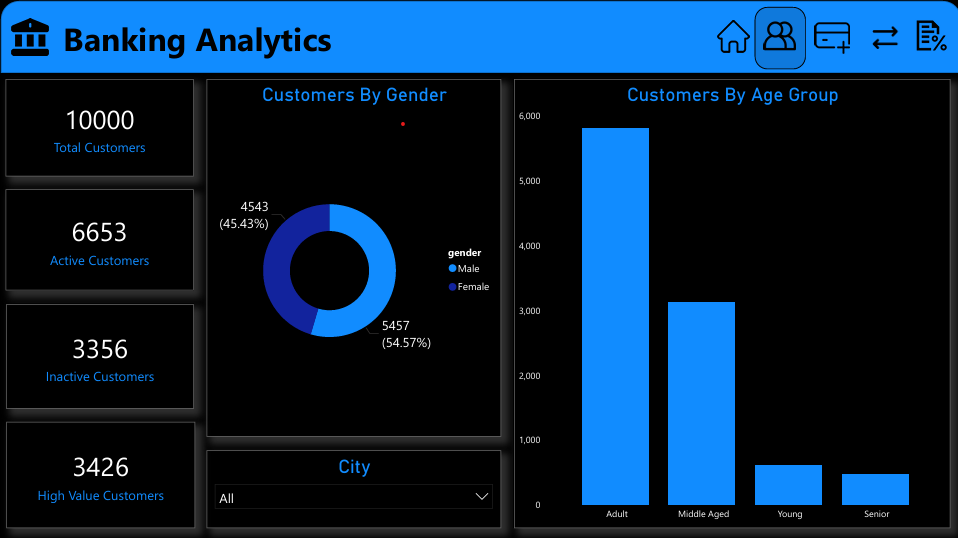

The page's visual inventory and layout, read from the dashboard file:
{"tool":"powerbi","page":{"name":"Customers","canvas":[1280,720],"ordinal":1},"visuals":[{"type":"shape","box":[0,0,1280,96],"z":0},{"type":"image","box":[14,18,50,60],"z":3000},{"type":"textbox","box":[78,16,394,88],"z":8000},{"type":"slicer","title":"City","fields":{"Values":["banking_system customers.city"]},"box":[274.3,598.6,392.9,104.3],"z":10000},{"type":"donutChart","title":"Customers By Gender","fields":{"Category":["banking_system customers.gender"],"Y":["CountNonNull(banking_system customers.customer_id)"]},"box":[274.3,104.3,392.9,477.1],"z":11000},{"type":"card","fields":{"Values":["Count(banking_system customers.customer_id)"]},"box":[7.1,561.4,251.4,141.4],"z":12000},{"type":"card","fields":{"Values":["Count(banking_system customers.customer_id)"]},"box":[7.1,404.3,250,140],"z":13000},{"type":"card","fields":{"Values":["Count(banking_system customers.customer_id)"]},"box":[5.7,104.3,251.4,130],"z":14000},{"type":"card","fields":{"Values":["Count(banking_system customers.customer_id)"]},"box":[5.7,251.4,251.4,134.3],"z":15000},{"type":"clusteredColumnChart","title":"Customers By Age Group","fields":{"Category":["banking_system customers.Age Group"],"Y":["CountNonNull(banking_system customers.customer_id)"]},"box":[684.3,104.3,581.4,598.6],"z":16000},{"type":"image","box":[949.3,25.8,54.5,43.6],"z":16001},{"type":"image","box":[1009.3,24.8,59,43.3],"z":16002},{"type":"image","box":[1211.1,21.2,60,50],"z":16003},{"type":"image","box":[1138.4,29.4,81.8,40],"z":16004},{"type":"image","box":[1067.5,25.8,81.8,47.3],"z":16005},{"type":"shape","box":[1005,7.5,67.5,83.8],"z":16006}]}

Visuals, with their boxes in screenshot pixels (x1, y1, x2, y2), scaled from the page's 1280x720 canvas onto the 958x538 screenshot:
shape: l=0, t=0, r=957, b=72
image: l=10, t=13, r=48, b=58
textbox: l=58, t=12, r=353, b=78
"City" slicer: l=205, t=447, r=499, b=525
"Customers By Gender" donutChart: l=205, t=78, r=499, b=434
card - Count(banking_system customers.customer_id): l=5, t=419, r=193, b=525
card - Count(banking_system customers.customer_id): l=5, t=302, r=192, b=407
card - Count(banking_system customers.customer_id): l=4, t=78, r=192, b=175
card - Count(banking_system customers.customer_id): l=4, t=188, r=192, b=288
"Customers By Age Group" clusteredColumnChart: l=512, t=78, r=947, b=525
image: l=710, t=19, r=751, b=52
image: l=755, t=19, r=800, b=51
image: l=906, t=16, r=951, b=53
image: l=852, t=22, r=913, b=52
image: l=799, t=19, r=860, b=55
shape: l=752, t=6, r=803, b=68
